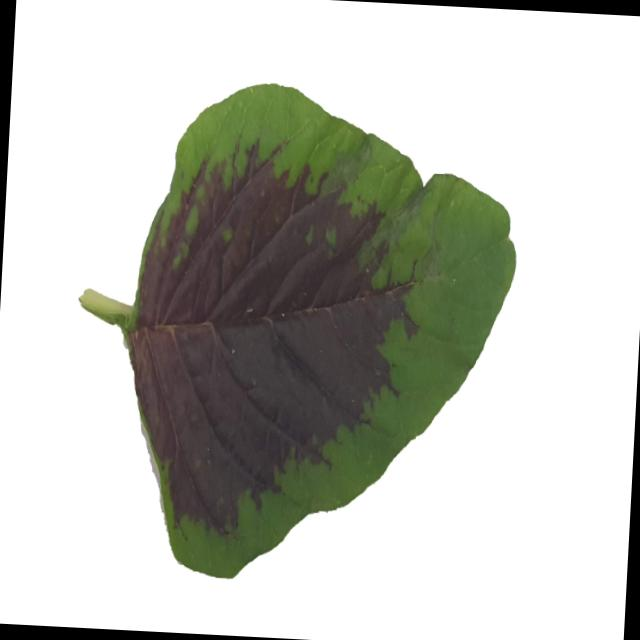Medicinal-Arive Dantu: (64, 65, 526, 588)
